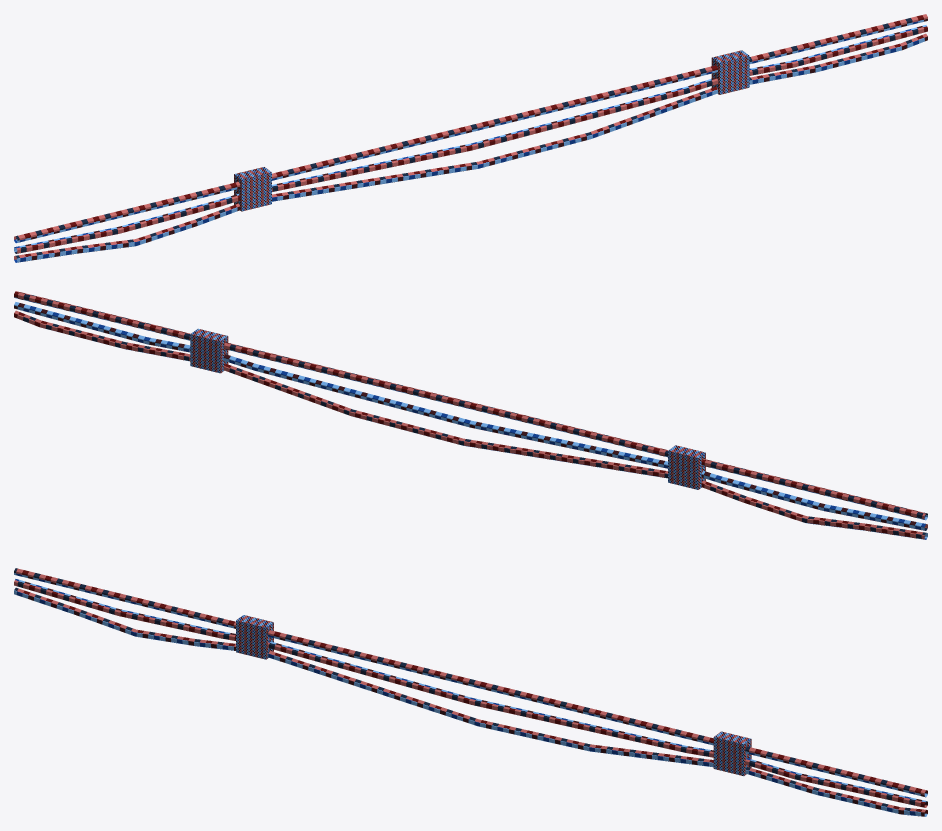
Rendered from Wire_cluster.fbx.
3 views of the same model, one above another, from view 1: azimuth 30°, elevation 25°; view 2: azimuth 150°, elevation 25°; view 3: azimuth 330°, elevation 25° (orthographic).
Visible parts, largest first — view 1: wire_smallCluster_06; view 2: wire_smallCluster_06; view 3: wire_smallCluster_06.
Boxes of the visible parts, x1,y1,x2,y2 form: wire_smallCluster_06: (14,14,927,262); wire_smallCluster_06: (14,291,927,539); wire_smallCluster_06: (14,568,927,816).
Bounding box in the file's own units: 500 × 26.05 × 7.33.
1 material, 1 textured.
